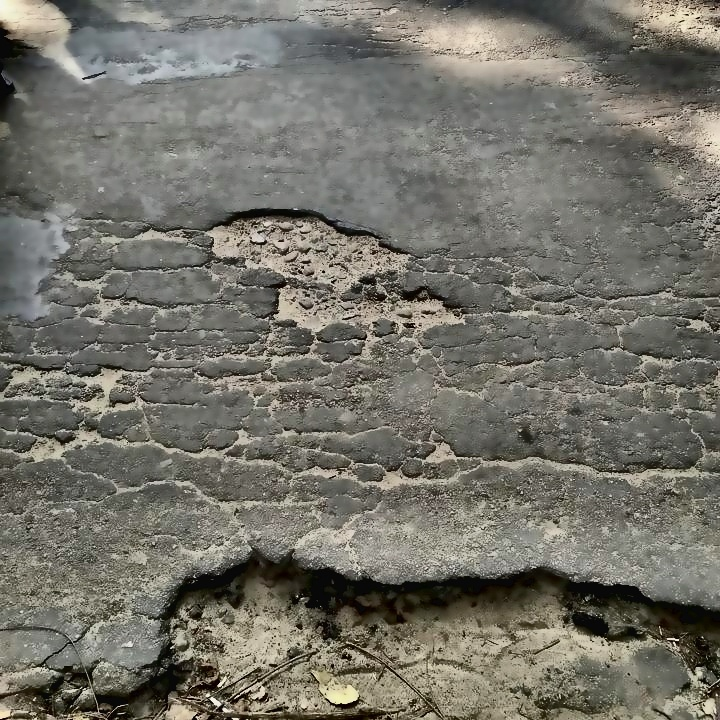pothole: (25, 538, 719, 719), (204, 204, 471, 332)
